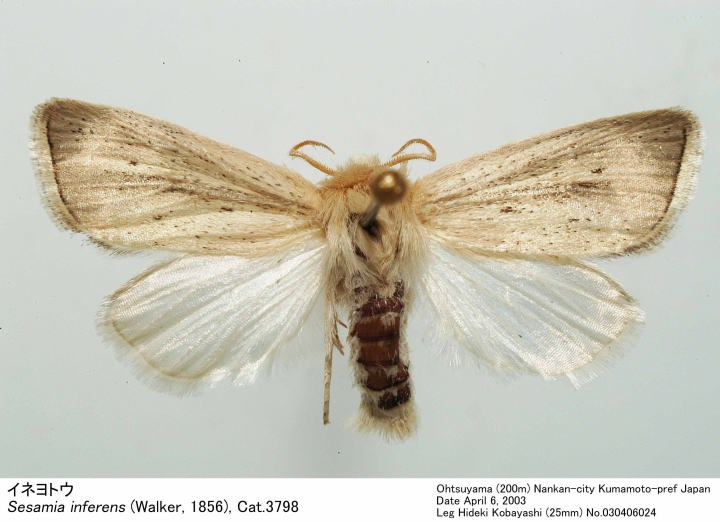Noctuidae: (27, 104, 710, 449)
